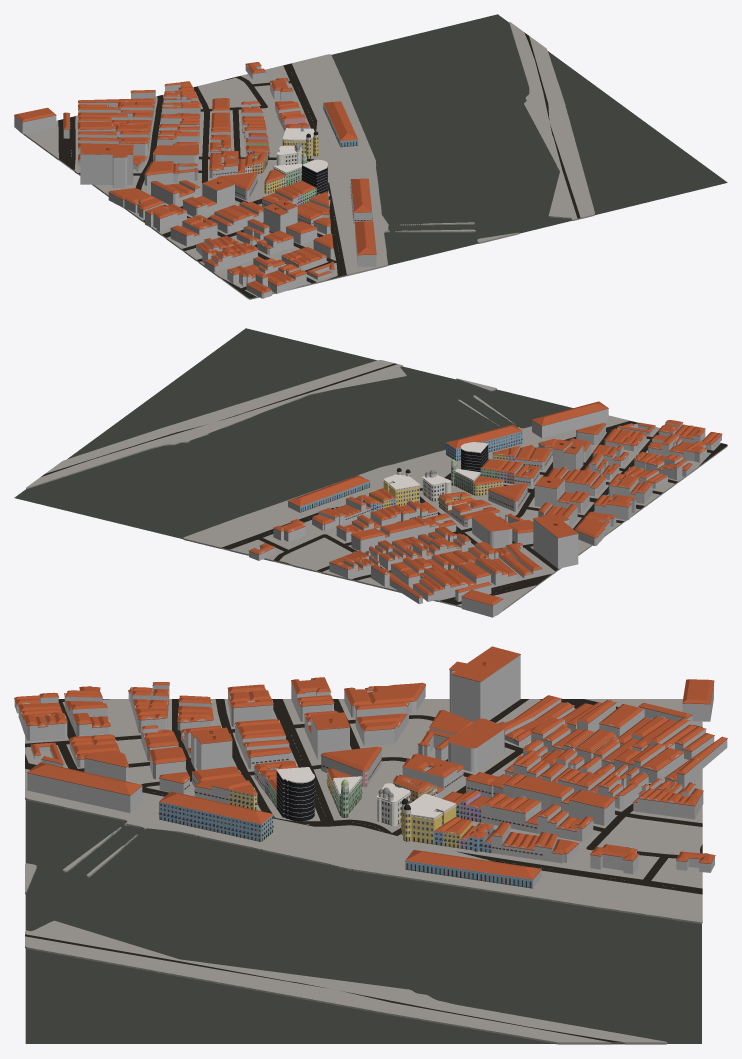
Rendered from ENTORNO_MARCO_ZERO.fbx.
3 views of the same model, one above another, from view 1: azimuth 30°, elevation 25°; view 2: azimuth 150°, elevation 25°; view 3: azimuth 270°, elevation 25° (orthographic). The views are drawn at different scales.
Visible parts, largest first — view 1: Agua_Porto, Edificacoes_OSM.002, Calcadas_Base, Ruas_Asfalto, Edificacoes_Praca, Palacios_Detalhes, Torre_Vidro; view 2: Agua_Porto, Edificacoes_OSM.002, Calcadas_Base, Edificacoes_Praca, Ruas_Asfalto, Palacios_Detalhes, Torre_Vidro; view 3: Agua_Porto, Edificacoes_OSM.002, Calcadas_Base, Edificacoes_Praca, Ruas_Asfalto, Torre_Vidro, Palacios_Detalhes.
Part boxes in pixels (left/top/right/bottom): Agua_Porto: left=59, top=14, right=727, bottom=299; Edificacoes_OSM.002: left=14, top=62, right=376, bottom=298; Calcadas_Base: left=20, top=22, right=594, bottom=299; Ruas_Asfalto: left=58, top=32, right=580, bottom=298; Edificacoes_Praca: left=242, top=101, right=372, bottom=222; Palacios_Detalhes: left=273, top=128, right=318, bottom=173; Torre_Vidro: left=302, top=159, right=327, bottom=195; Agua_Porto: left=14, top=328, right=727, bottom=605; Edificacoes_OSM.002: left=248, top=401, right=722, bottom=617; Calcadas_Base: left=26, top=360, right=727, bottom=615; Edificacoes_Praca: left=288, top=425, right=522, bottom=517; Ruas_Asfalto: left=40, top=363, right=727, bottom=604; Palacios_Detalhes: left=383, top=459, right=480, bottom=490; Torre_Vidro: left=460, top=442, right=488, bottom=475; Agua_Porto: left=25, top=800, right=701, bottom=1043; Edificacoes_OSM.002: left=14, top=646, right=727, bottom=887; Calcadas_Base: left=25, top=699, right=702, bottom=1044; Edificacoes_Praca: left=159, top=767, right=537, bottom=888; Ruas_Asfalto: left=25, top=699, right=702, bottom=1042; Torre_Vidro: left=276, top=767, right=314, bottom=821; Palacios_Detalhes: left=333, top=776, right=456, bottom=820.
Size of the model in its own units: 614 by 40.95 by 528.
